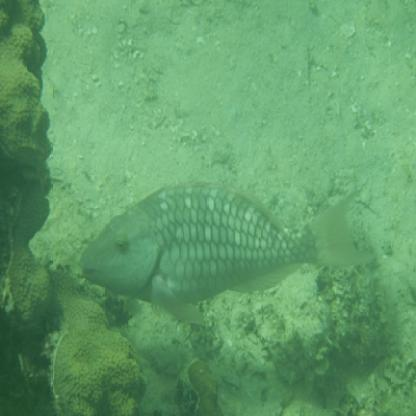Scaridae -Parrotfishes-: (75, 165, 376, 328)
